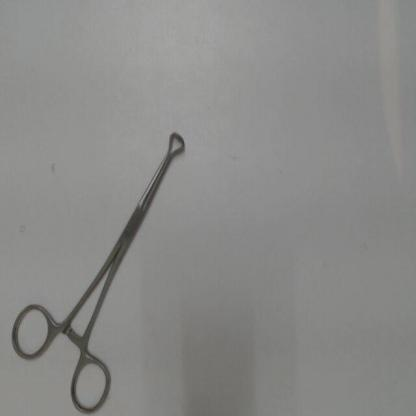Babcock Tissue Forceps: (7, 128, 191, 415)
